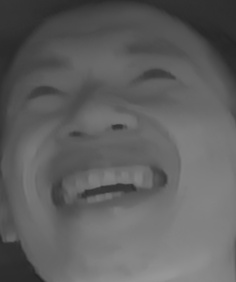eye: (128, 65, 181, 90), (22, 81, 69, 107)
mouth: (44, 148, 171, 225)
